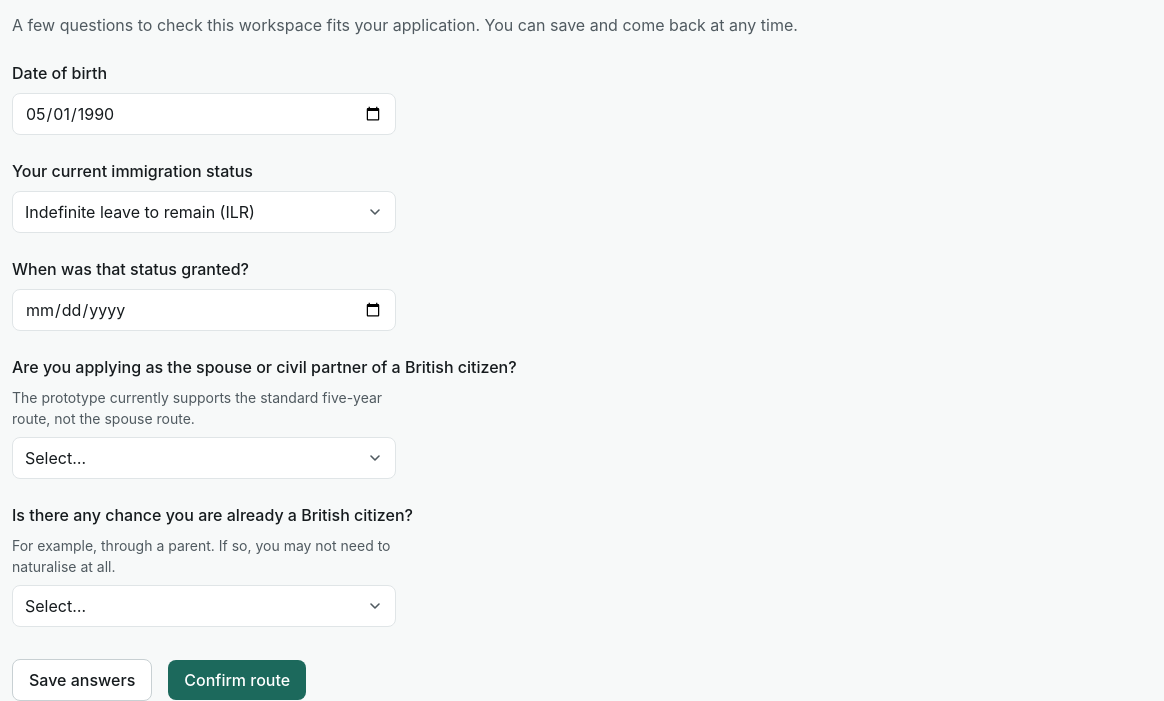
Scenario: RouteOnboarding › shows a stop outcome for the spouse route and keeps the form for editing
The image size is (1164, 701).
(page scrolled)
Click the button "Confirm route": {"x": 237, "y": 680} [168,660,306,700]
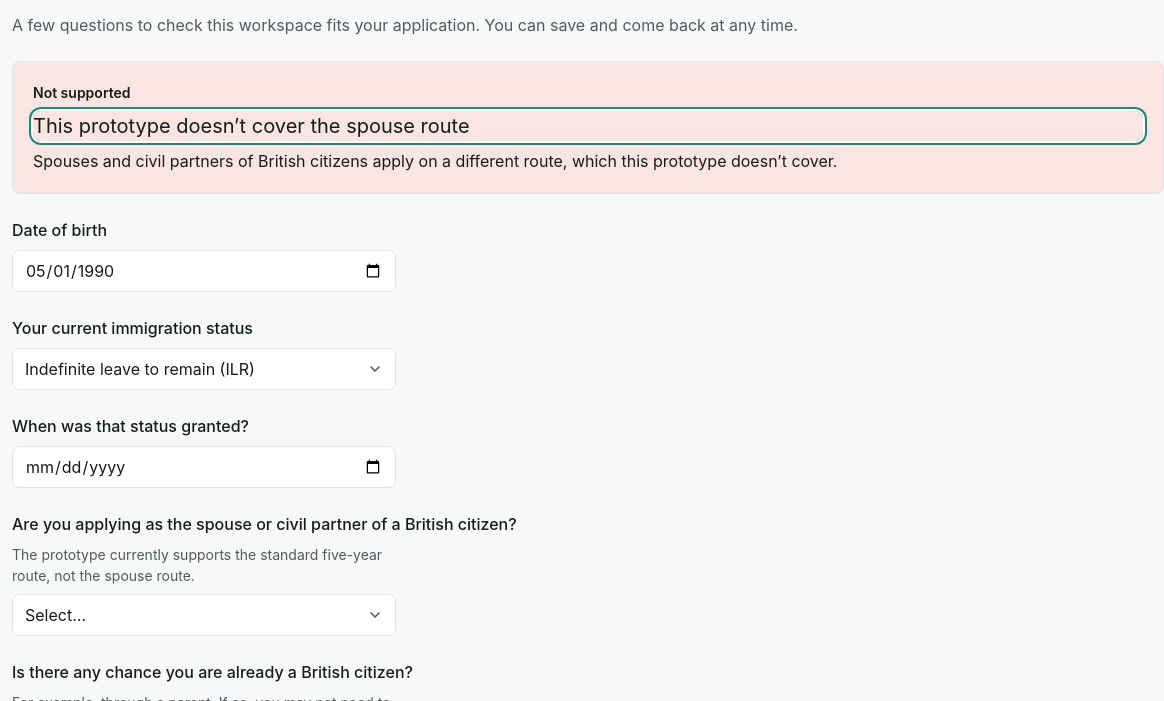
Expected: the date field labelled "Date of birth" is shown, [12,250,396,292]
Expected: the heading "This prototype doesn’t cover the spouse route" is shown, [33,111,1143,141]
